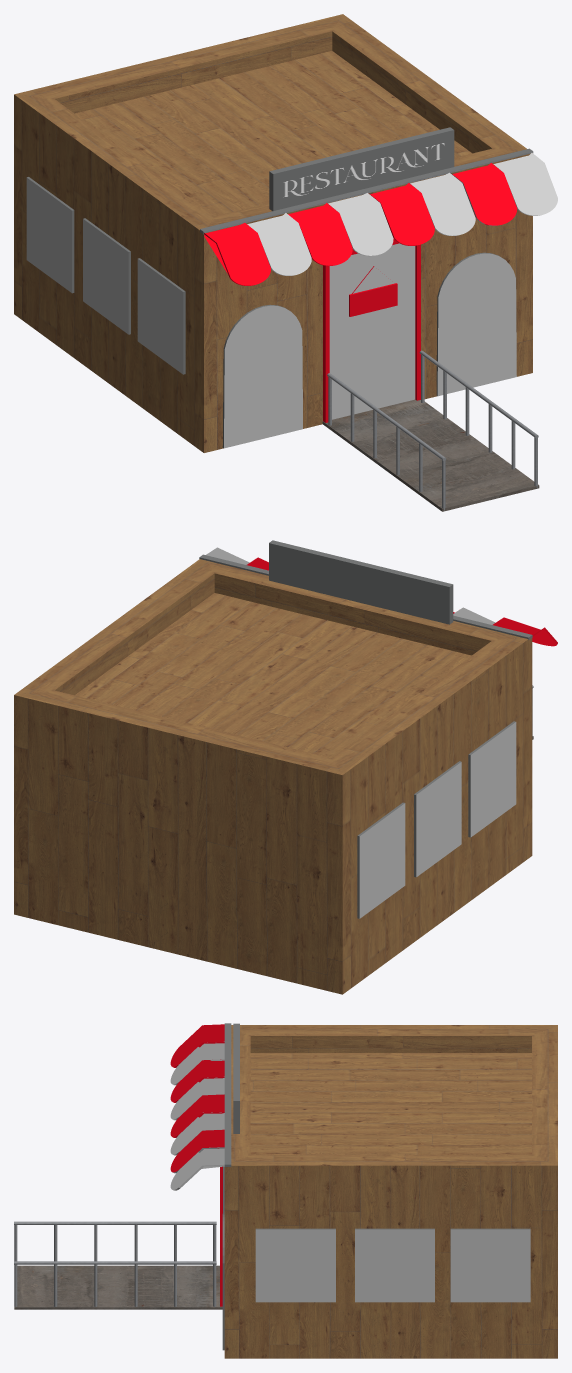
File: Tienda4.fbx
The picture shows the model from 3 angles, top to bottom: view 1: azimuth 30°, elevation 25°; view 2: azimuth 150°, elevation 25°; view 3: azimuth 270°, elevation 25°; orthographic projection. The views are drawn at different scales.
Parts seen in each view (by area): view 1: Cube.008; view 2: Cube.008; view 3: Cube.008.
Boxes of the visible parts, x1,y1,x2,y2 form: Cube.008: [14, 14, 557, 511]; Cube.008: [14, 540, 557, 994]; Cube.008: [14, 1023, 557, 1358].
Size of the model in its own units: 102 by 74.91 by 164.
